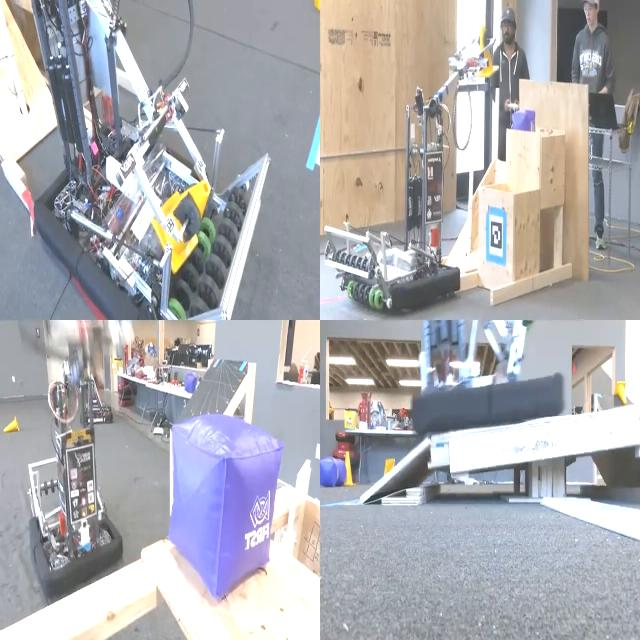frc_cone: (152, 177, 210, 270), (476, 22, 499, 87), (614, 376, 634, 406), (341, 451, 355, 492), (382, 452, 396, 482), (4, 417, 19, 439)
frc_cube: (166, 408, 287, 592), (320, 451, 343, 495), (511, 108, 537, 133), (183, 372, 200, 396)
